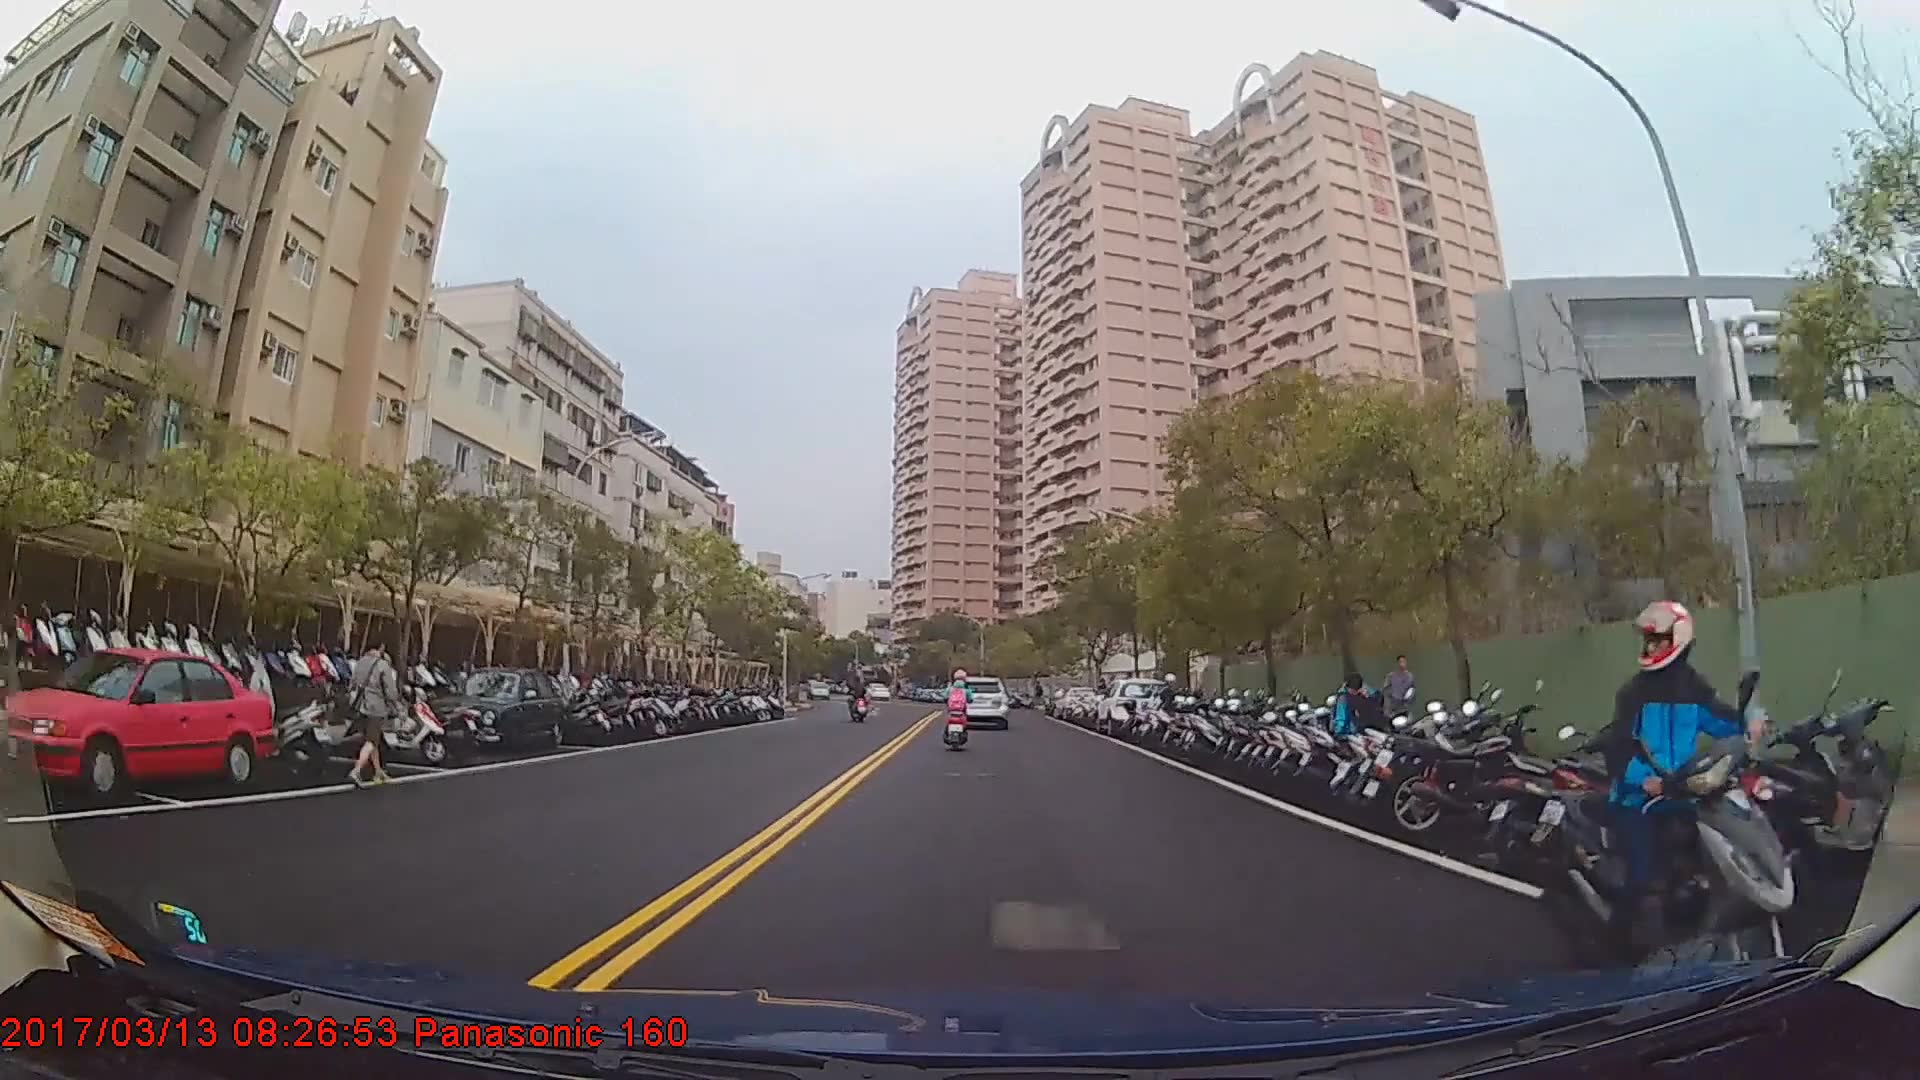pedestrian: (340, 631, 415, 790), (1332, 672, 1389, 795), (1381, 654, 1417, 757)
rider: (1539, 602, 1738, 1027), (943, 673, 976, 749), (848, 680, 870, 725)
vehicle: (1, 651, 275, 797), (429, 668, 564, 756), (1095, 677, 1177, 738), (952, 676, 1009, 728)
